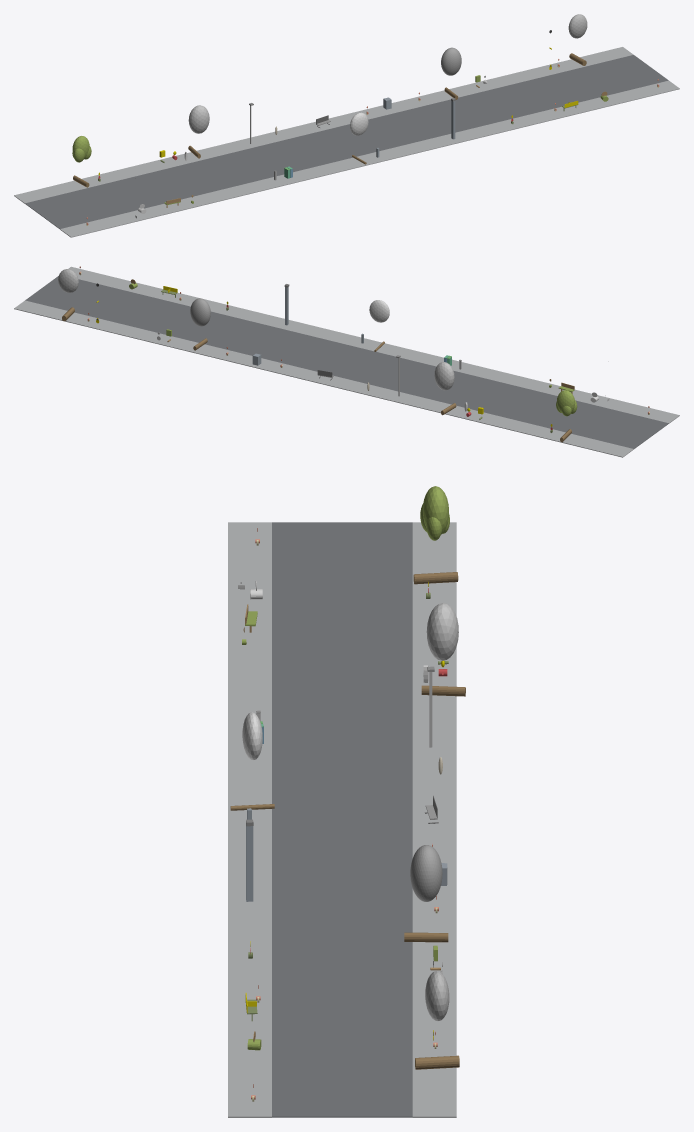
3 renders of one model, top to bottom at view 1: azimuth 30°, elevation 25°; view 2: azimuth 150°, elevation 25°; view 3: azimuth 270°, elevation 25°, orthographic. The views are drawn at different scales.
Visible parts, largest first — view 1: road_slab, sidewalk_left, sidewalk_right, inst_0013, inst_0015, inst_0012, inst_0016, inst_0014; view 2: road_slab, sidewalk_right, sidewalk_left, inst_0013, inst_0015, inst_0012, inst_0016, inst_0014; view 3: road_slab, sidewalk_left, sidewalk_right, inst_0015, inst_0013, inst_0012, inst_0016, inst_0014.
Part boxes in pixels (x1,y1,x2,y2): road_slab: (25, 55, 668, 228); sidewalk_left: (60, 80, 679, 237); sidewalk_right: (14, 47, 633, 203); inst_0013: (188, 105, 209, 158); inst_0015: (441, 47, 461, 99); inst_0012: (72, 136, 91, 187); inst_0016: (568, 14, 587, 65); inst_0014: (350, 112, 368, 164); road_slab: (25, 276, 668, 448); sidewalk_right: (14, 300, 633, 457); sidewalk_left: (68, 266, 679, 423); inst_0013: (434, 362, 456, 415); inst_0015: (190, 298, 210, 350); inst_0012: (556, 390, 577, 442); inst_0016: (58, 269, 78, 321); inst_0014: (369, 300, 389, 351); road_slab: (272, 522, 412, 1117); sidewalk_left: (228, 522, 271, 1117); sidewalk_right: (412, 522, 456, 1117); inst_0015: (404, 845, 448, 942); inst_0013: (421, 602, 465, 696); inst_0012: (413, 486, 458, 584); inst_0016: (415, 971, 459, 1069); inst_0014: (230, 712, 274, 810).
Bounding box in the file's own units: 80 × 6.08 × 13.53.
